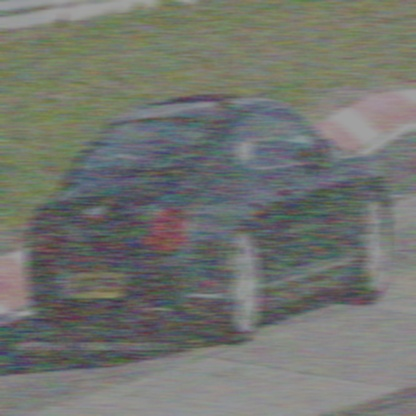Vehicle: (27, 16, 391, 343)
